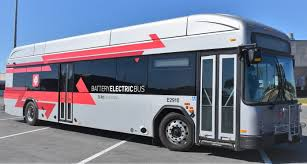bus: (3, 12, 301, 153)
